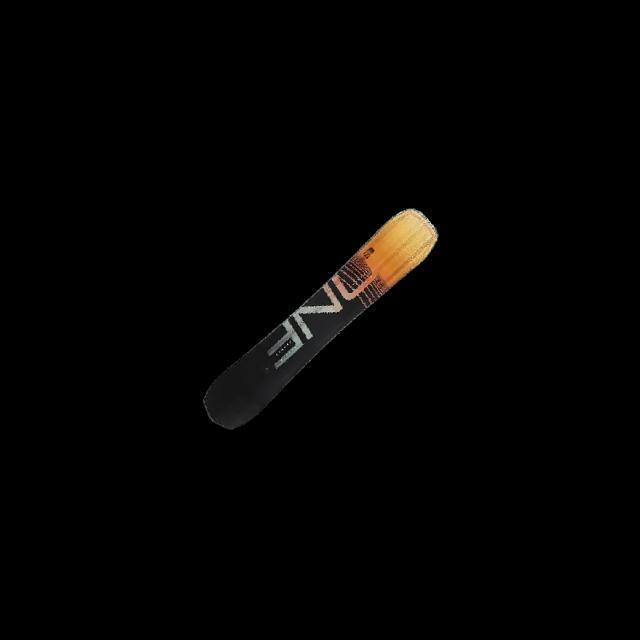Snowboard: (201, 206, 438, 430)
